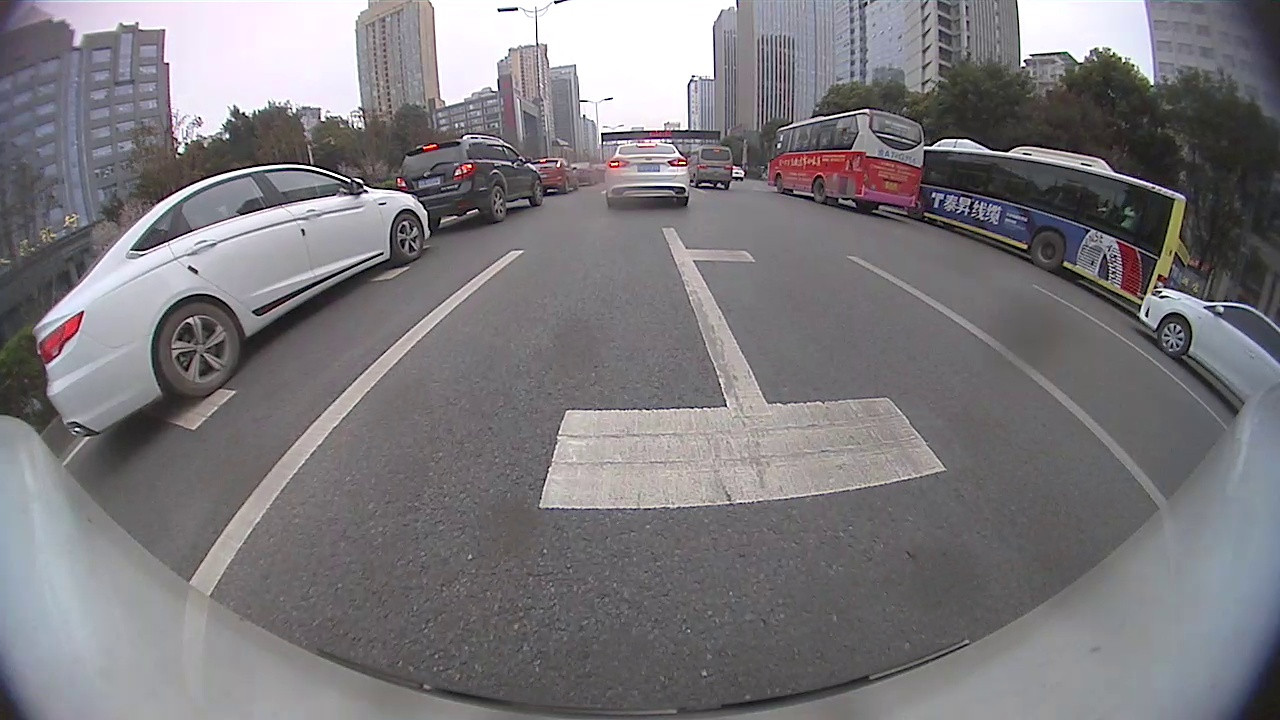bus: (927, 137, 1186, 305), (766, 107, 925, 215)
car: (29, 161, 433, 438), (1136, 286, 1279, 406), (391, 131, 543, 224), (604, 140, 690, 209), (691, 145, 736, 190), (531, 158, 579, 196)
front: (391, 211, 424, 263), (1156, 316, 1192, 359), (529, 179, 545, 207)
rear: (156, 301, 242, 398), (1031, 230, 1066, 272), (488, 187, 508, 222), (812, 177, 826, 203)
